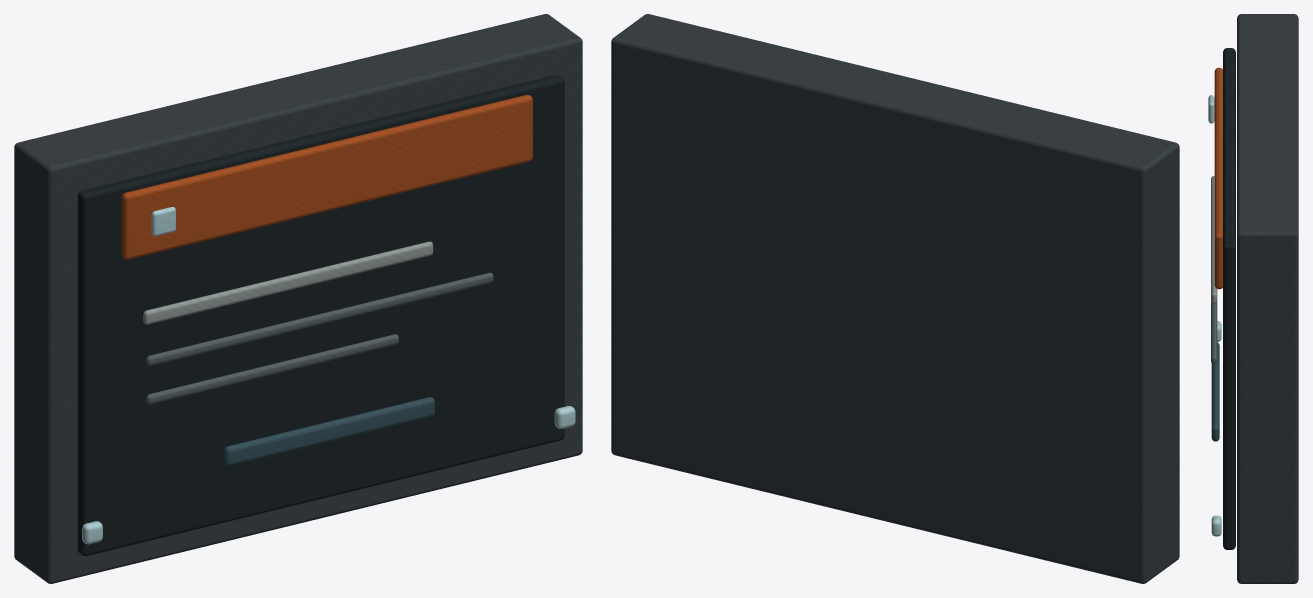
The model's file is WallSign.fbx.
3 views of the same model, side by side, from view 1: azimuth 30°, elevation 25°; view 2: azimuth 150°, elevation 25°; view 3: azimuth 270°, elevation 25° (orthographic). The views are drawn at different scales.
Visible parts, largest first — view 1: WallSign_Mesh; view 2: WallSign_Mesh; view 3: WallSign_Mesh.
Part boxes in pixels (left/top/right/bottom): WallSign_Mesh: left=14, top=14, right=582, bottom=583; WallSign_Mesh: left=611, top=14, right=1179, bottom=583; WallSign_Mesh: left=1208, top=14, right=1298, bottom=583.
Bounding box in the file's own units: 102 × 76 × 17.6.
Materials: 7 (7 with a texture image).
